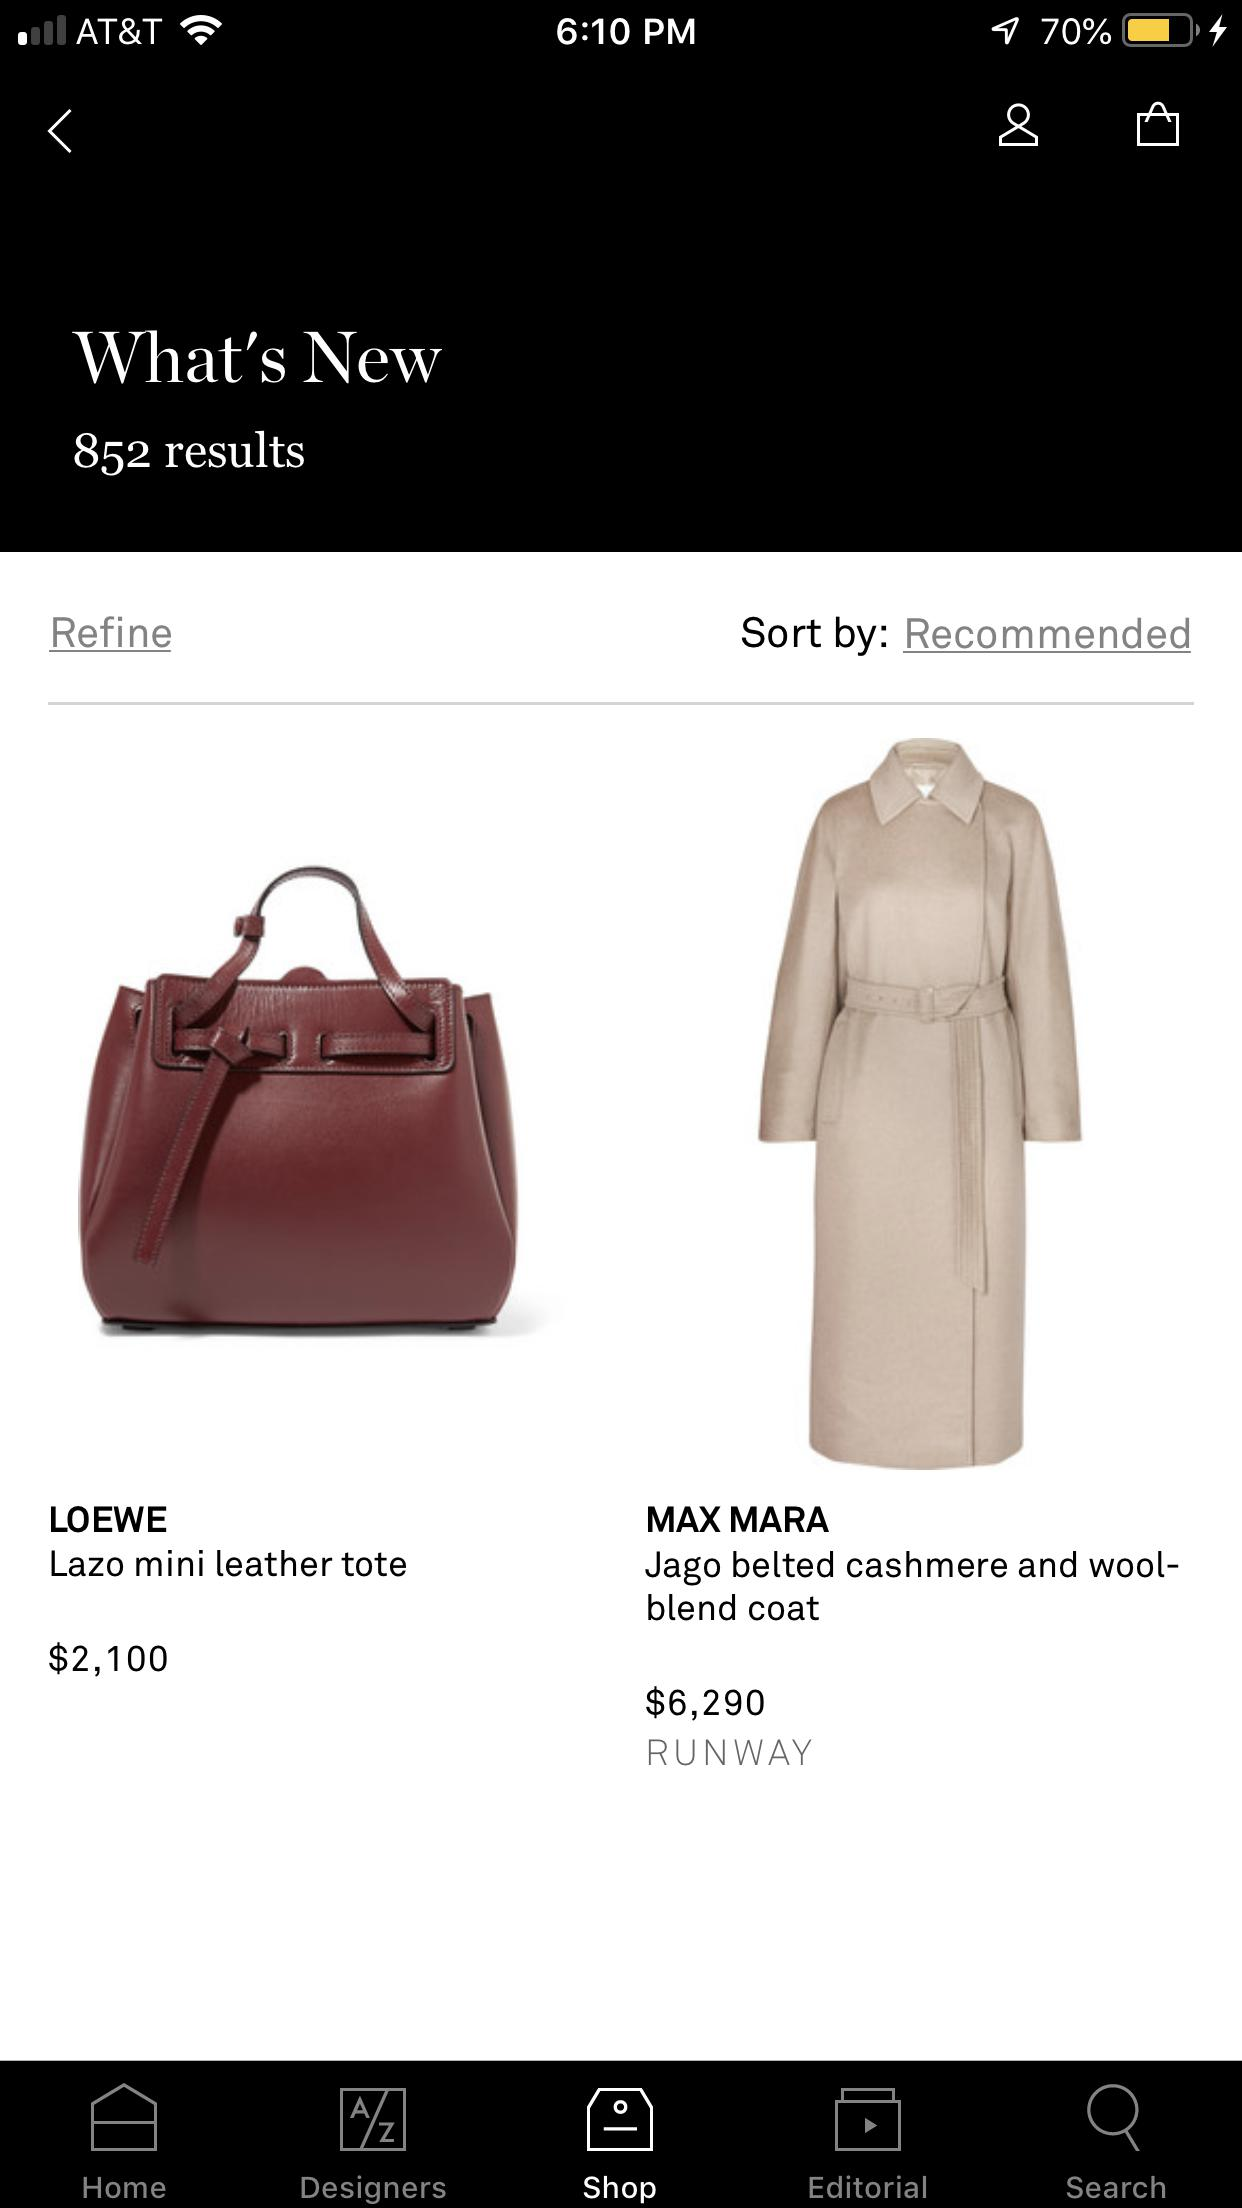Icon: (89, 2082, 159, 2152), (834, 2087, 902, 2152), (1086, 2084, 1142, 2150), (1136, 102, 1180, 149), (998, 103, 1039, 149), (45, 109, 73, 155)
Image: (757, 735, 1083, 1471), (74, 864, 519, 1335), (340, 2087, 408, 2152), (587, 2087, 655, 2152)
Text: (645, 1548, 1180, 1623), (71, 329, 444, 385), (742, 616, 1192, 658), (74, 431, 306, 478), (52, 1548, 408, 1579), (648, 1504, 831, 1535), (648, 1738, 814, 1767), (50, 616, 174, 654), (300, 2175, 447, 2205), (645, 1683, 766, 1720), (49, 1641, 168, 1677), (52, 1504, 168, 1535), (808, 2175, 927, 2199), (1066, 2175, 1168, 2200), (582, 2175, 657, 2205), (83, 2176, 167, 2199)
UpperTaskBar: (2, 2, 1242, 49)
